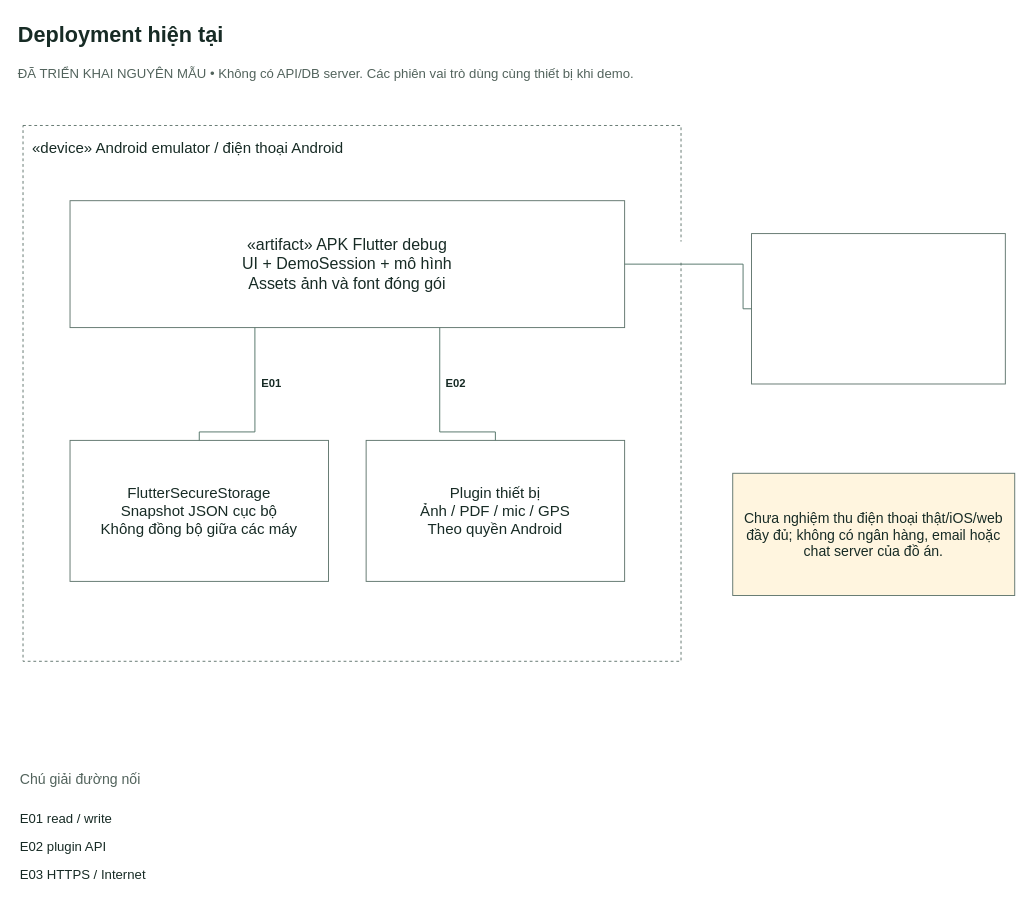
Some shapes in this 1032 by 902 pixel diagram are drawn without their labels. Here are the shapes that lost their labels. From the top down, the centre of each, then its label:
At (x=683, y=250): "E03".
At (x=878, y=308): "Dịch vụ bản đồ bên ngoài Tile mạng, Nominatim Platform geocoding".
